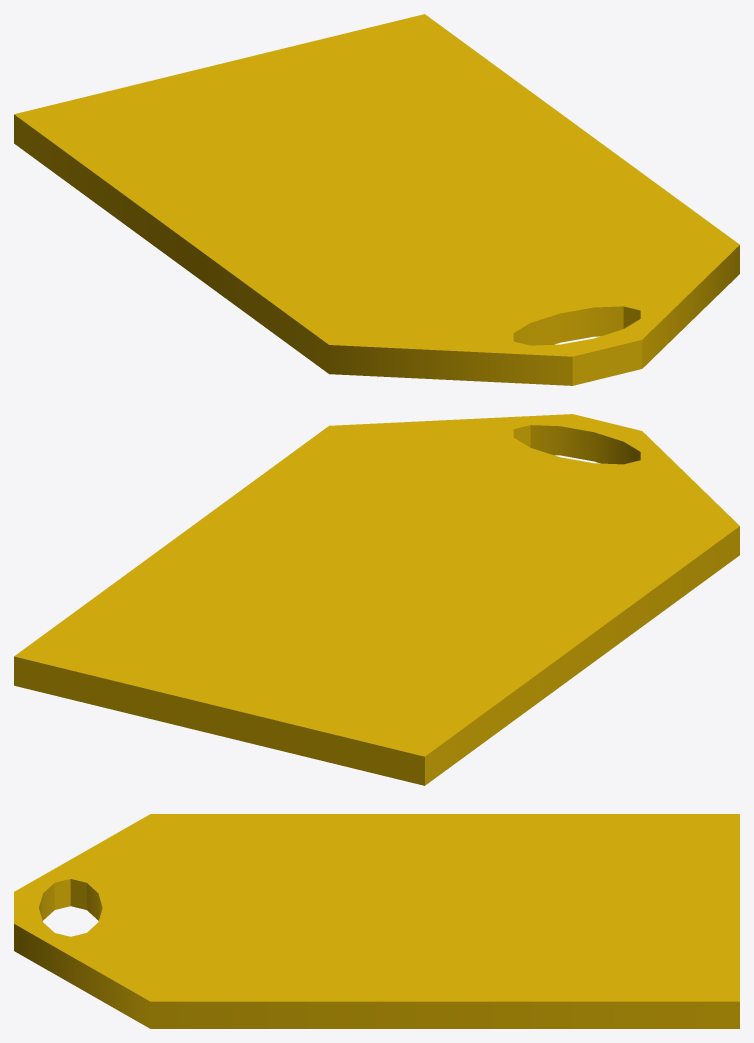
Rendered from ChopBoard.fbx.
3 views of the same model, one above another, from view 1: azimuth 30°, elevation 25°; view 2: azimuth 150°, elevation 25°; view 3: azimuth 270°, elevation 25° (orthographic). The views are drawn at different scales.
Parts seen in each view (by area): view 1: pCube22; view 2: pCube22; view 3: pCube22.
Boxes of the visible parts, bbox=[...] form: pCube22: bbox=[14, 14, 739, 385]; pCube22: bbox=[14, 414, 739, 785]; pCube22: bbox=[14, 814, 739, 1028].
Bounding box in the file's own units: 1.65 × 0.1124 × 2.71.
